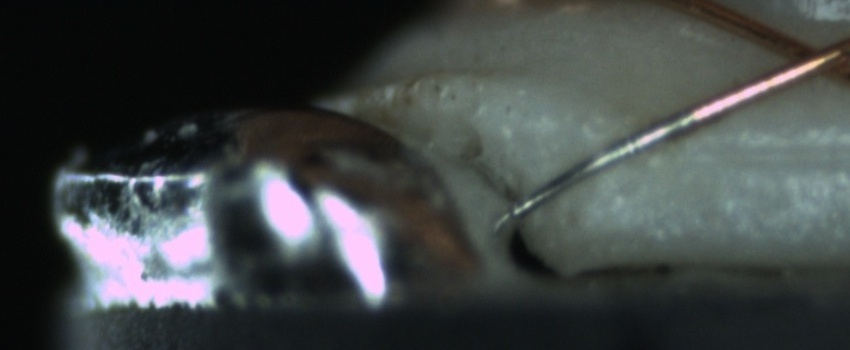CL: (755, 21, 849, 91)
DL: (684, 117, 846, 186)
TS: (506, 107, 697, 222)
TTCW: (508, 83, 748, 223)
